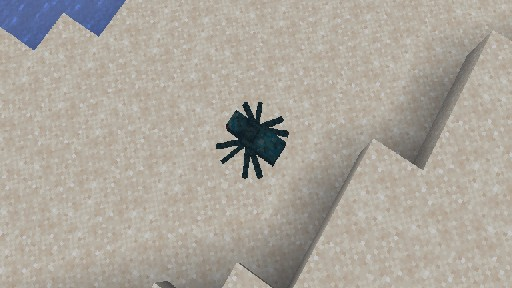cave_spider: (215, 101, 289, 179)
